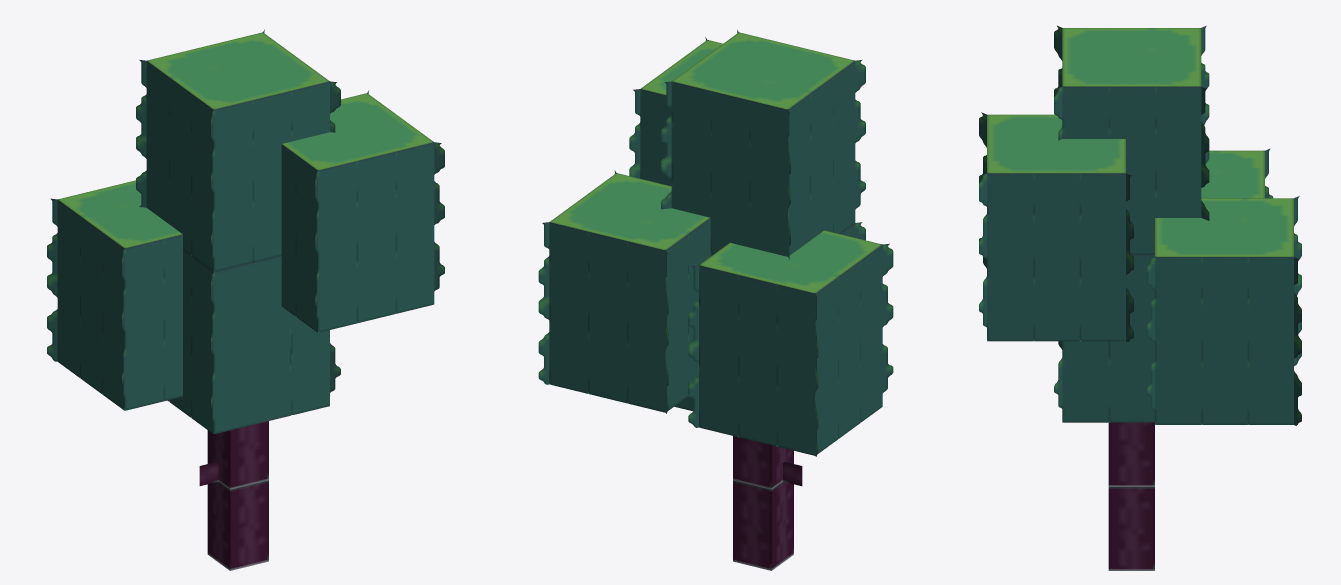
Rendered from tree1.fbx.
3 renders of one model, left to right at view 1: azimuth 30°, elevation 25°; view 2: azimuth 150°, elevation 25°; view 3: azimuth 270°, elevation 25°, orthographic. The views are drawn at different scales.
Visible parts, largest first — view 1: Cube.032; view 2: Cube.032; view 3: Cube.032.
Part boxes in pixels (x1,y1,x2,y2): Cube.032: (47,29,444,570); Cube.032: (538,30,893,570); Cube.032: (979,25,1301,570).
Bounding box in the file's own units: 198 × 300 × 201.
